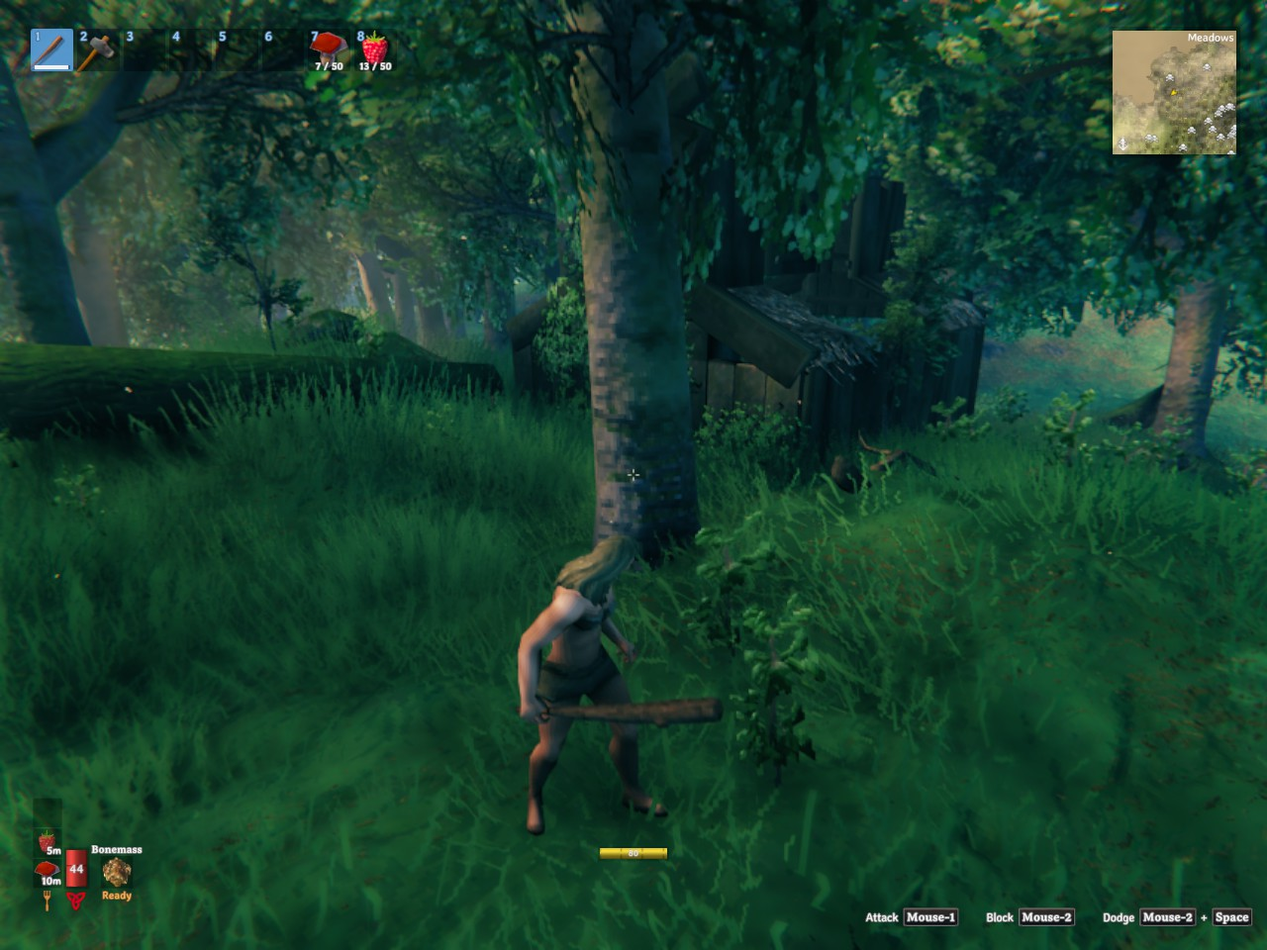Branch: (830, 436, 936, 492)
Food Indicator: (36, 797, 63, 891)
Health Bar: (63, 820, 90, 891)
Hotbar: (24, 21, 406, 80)
House: (685, 176, 987, 484), (510, 278, 593, 412)
Stamina Bar: (593, 842, 673, 865)
